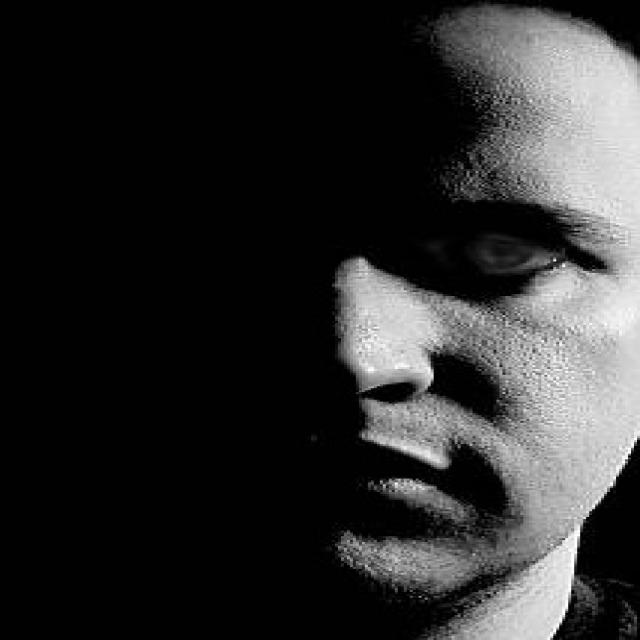Anxiety: (97, 8, 637, 615)
